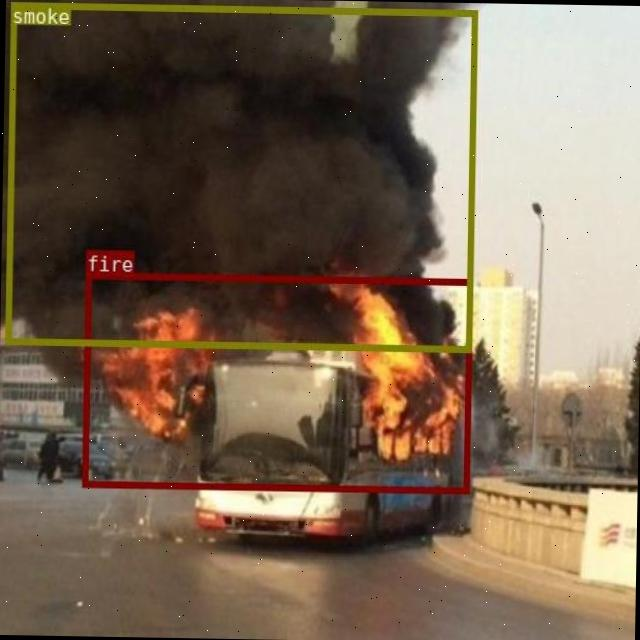fire: (82, 271, 472, 492)
smoke: (4, 1, 476, 350)
